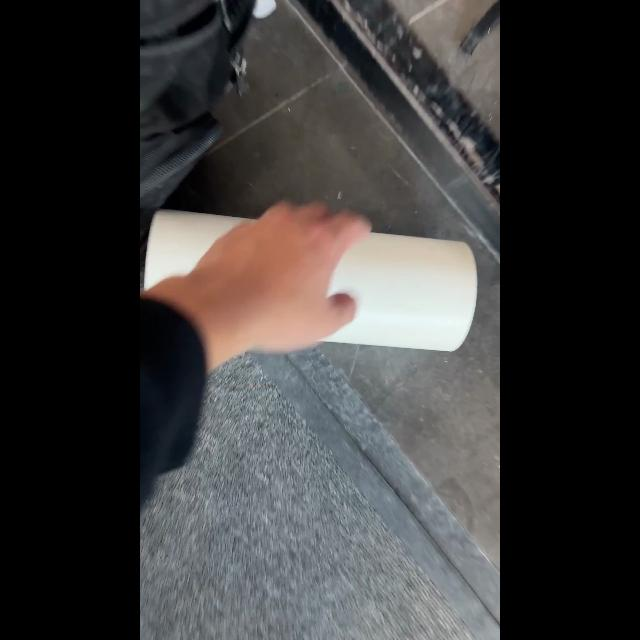CORAL: (144, 208, 478, 352)
